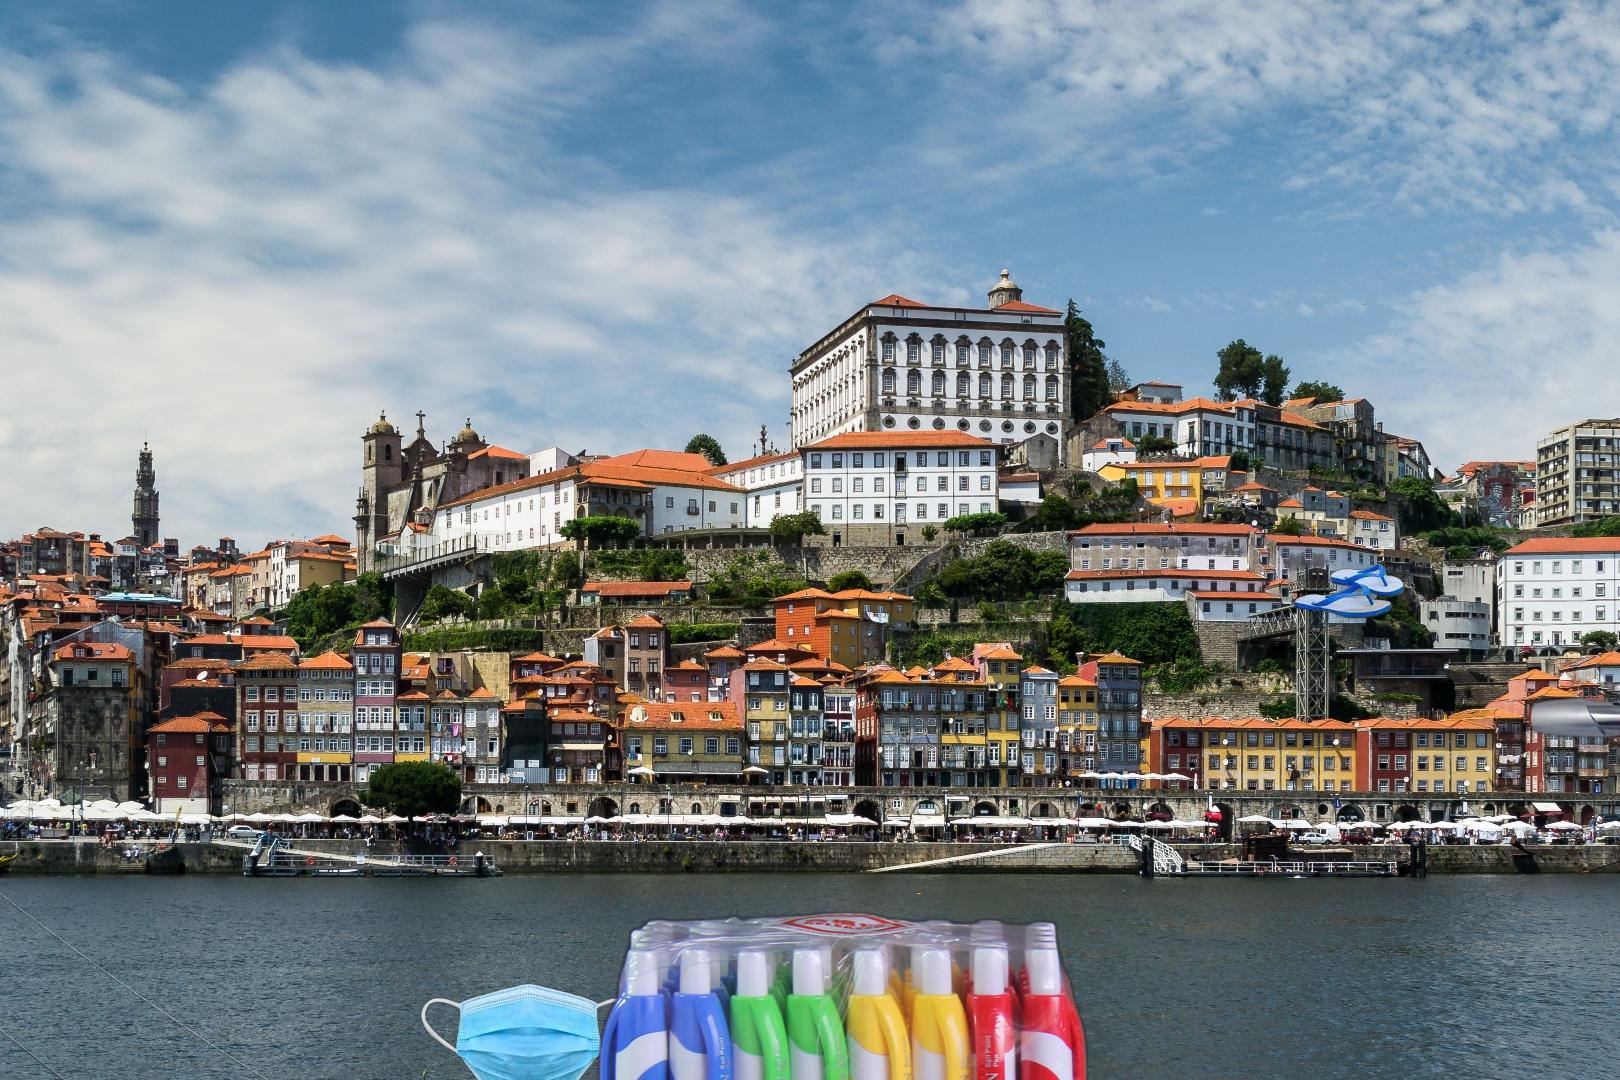penholder: (1433, 463, 1620, 961), (583, 905, 1104, 1080)
shoes: (1291, 560, 1407, 621)
trash: (418, 981, 639, 1080)
